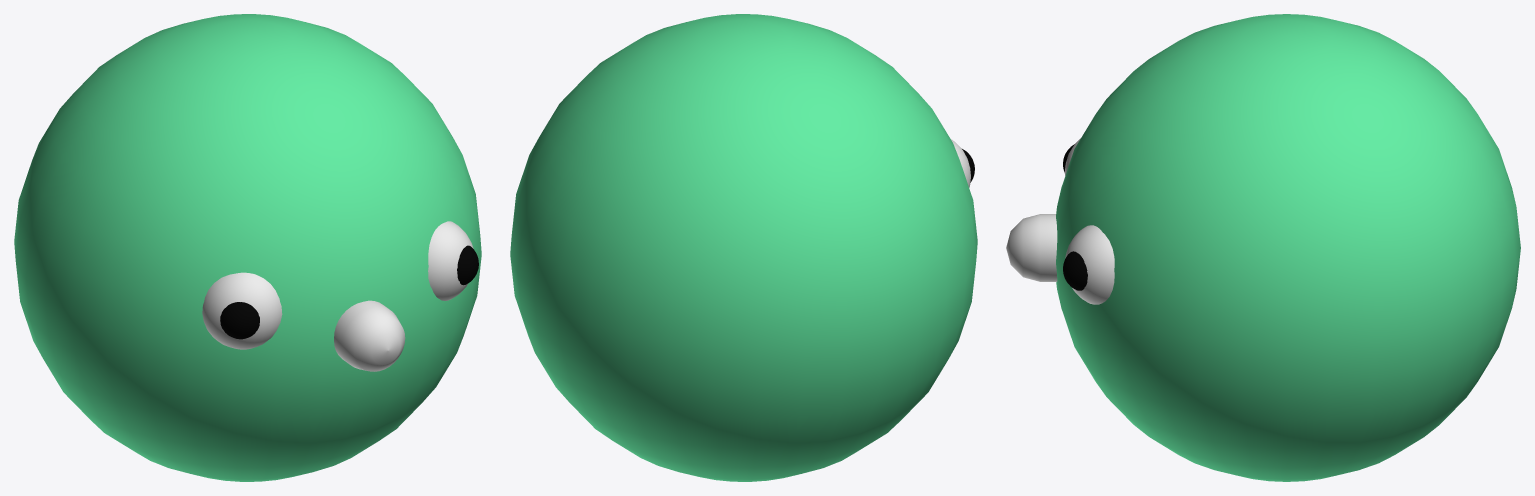
Rendered from slingshotboy.glb.
3 renders of one model, left to right at view 1: azimuth 30°, elevation 25°; view 2: azimuth 150°, elevation 25°; view 3: azimuth 270°, elevation 25°, orthographic.
Parts seen in each view (by area): view 1: Body, RightEye, Cylinder, RightPupil; view 2: Body; view 3: Body, Cylinder, RightEye, RightPupil.
Boxes of the visible parts, x1=… form: Body: x1=14, y1=14, x2=481, y2=481; RightEye: x1=202, y1=221, x2=473, y2=349; Cylinder: x1=334, y1=300, x2=405, y2=371; RightPupil: x1=220, y1=245, x2=478, y2=339; Body: x1=510, y1=14, x2=977, y2=481; Body: x1=1056, y1=14, x2=1520, y2=481; Cylinder: x1=1006, y1=214, x2=1057, y2=281; RightEye: x1=1064, y1=138, x2=1114, y2=304; RightPupil: x1=1063, y1=144, x2=1087, y2=290.
Size of the model in its own units: 2 by 2 by 2.2.
